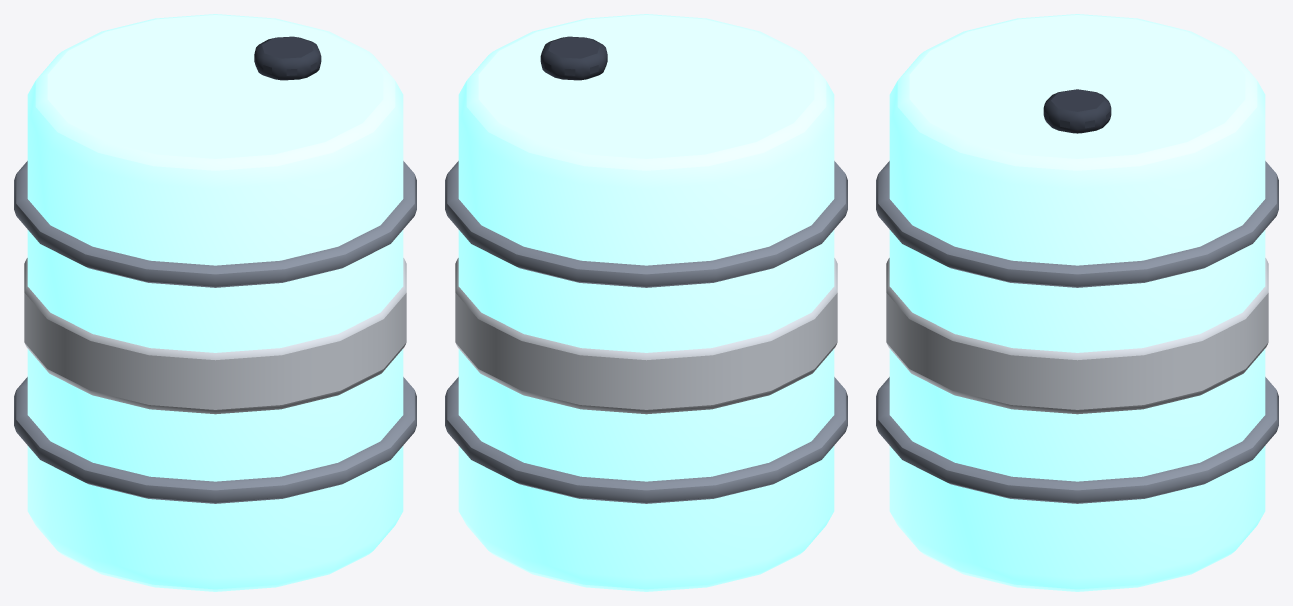
The model's file is ware_polymer.fbx.
3 views of the same model, side by side, from view 1: azimuth 30°, elevation 25°; view 2: azimuth 150°, elevation 25°; view 3: azimuth 270°, elevation 25° (orthographic).
Parts seen in each view (by area): view 1: ware_polymer_Koerper; view 2: ware_polymer_Koerper; view 3: ware_polymer_Koerper.
Part boxes in pixels (bbox=[...]): ware_polymer_Koerper: bbox=[14, 14, 416, 591]; ware_polymer_Koerper: bbox=[445, 14, 847, 591]; ware_polymer_Koerper: bbox=[876, 14, 1278, 591].
Bounding box in the file's own units: 0.3432 × 0.42 × 0.338.
